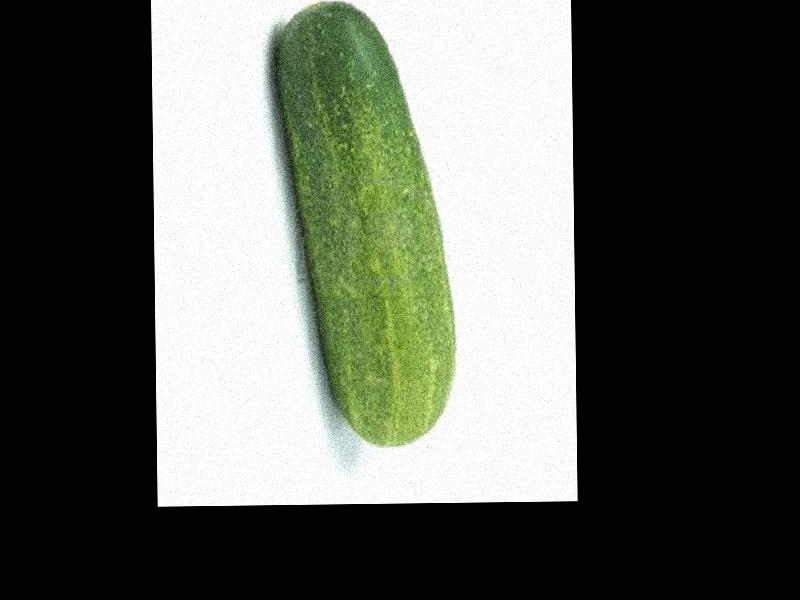Cucumber: (274, 1, 456, 448)
